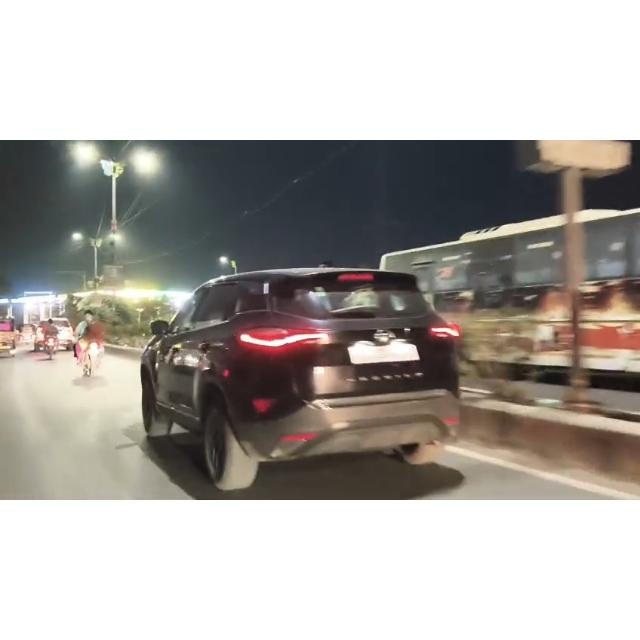auto: (2, 315, 18, 362), (18, 325, 42, 347)
car: (126, 255, 483, 490), (35, 317, 77, 353)
